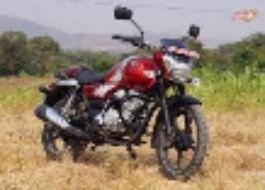Vehicle: (33, 4, 208, 182)
